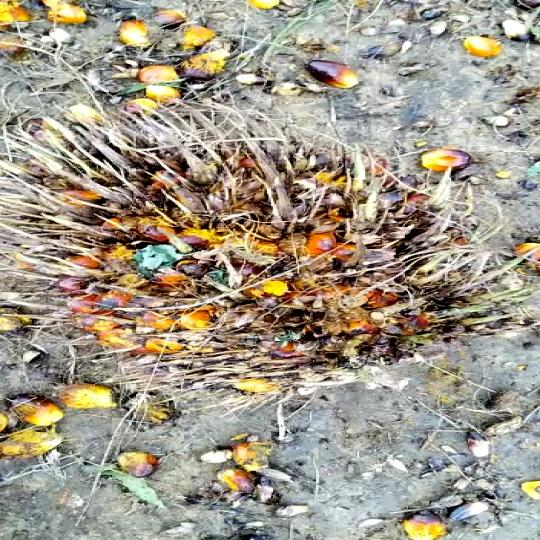terlalu masak: (0, 107, 540, 405)
